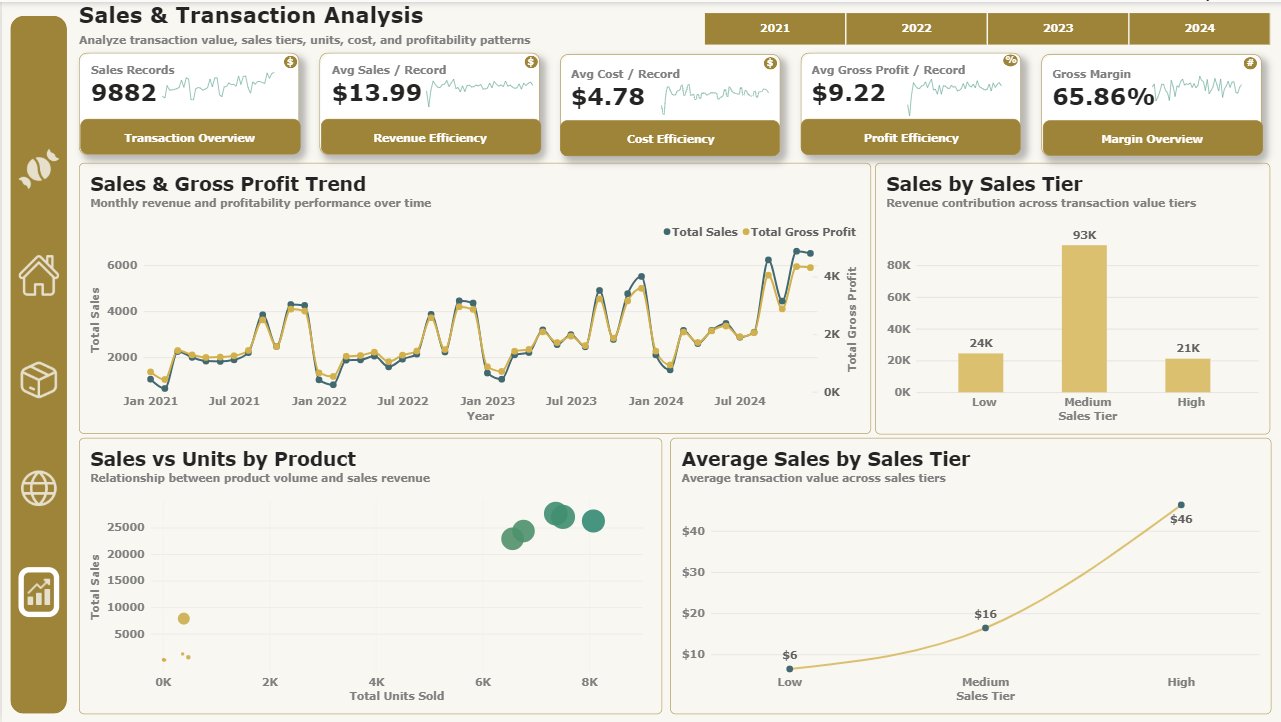

The dashboard page shown, as its layout file describes it:
{"tool":"powerbi","page":{"name":"Profitability & Insights","canvas":[1920,1080],"ordinal":3},"visuals":[{"type":"slicer","fields":{"Values":["06_Clean_Sales.Year"]},"box":[1032.3,13.8,887.5,51.2],"z":0,"group":"g2"},{"type":"group","id":"g1","title":"Group 1","box":[12.4,20.6,84.6,1048],"z":0},{"type":"shape","box":[115,76.9,330.3,152.8],"z":0,"group":"g8"},{"type":"shape","box":[476.2,76.9,330.3,152.8],"z":0,"group":"g11"},{"type":"shape","box":[1198.8,76.9,330.3,152.8],"z":0,"group":"g9"},{"type":"shape","box":[838,78.9,330.3,152.8],"z":0,"group":"g5"},{"type":"shape","box":[1560.4,79,330.3,152.8],"z":0,"group":"g6"},{"type":"textbox","box":[852.2,197.3,302.7,25.7],"z":0,"group":"g13"},{"type":"image","box":[24.2,521.8,60.9,89.7],"z":0,"group":"g12"},{"type":"group","id":"g2","title":"Group 13","box":[115,0,1803.1,72.5],"z":1000},{"type":"textbox","box":[115.2,0,659.6,47.4],"z":1000,"group":"g2"},{"type":"group","id":"g3","title":"Group 11","box":[1198.1,76.9,330.9,153.2],"z":1000,"group":"g4"},{"type":"cardVisual","fields":{"Data":["06_Clean_Sales.Avg Cost Per Recorde"]},"box":[837.5,93.7,293,77],"z":1000,"group":"g13"},{"type":"shape","box":[1198.8,176.3,329.2,53.8],"z":1000,"group":"g9"},{"type":"shape","box":[116,176.8,329.9,52.8],"z":1000,"group":"g8"},{"type":"shape","box":[477.2,176.8,329.9,52.8],"z":1000,"group":"g11"},{"type":"shape","box":[838,178.3,329.2,53.8],"z":1000,"group":"g5"},{"type":"shape","box":[1561.4,178.9,329.9,52.8],"z":1000,"group":"g6"},{"type":"image","box":[24.2,365.5,60.9,89.7],"z":1000,"group":"g12"},{"type":"textbox","box":[115,48,917.3,24.2],"z":2000,"group":"g2"},{"type":"group","id":"g4","title":"Group 5","box":[115,76.9,1776.2,155.3],"z":2000},{"type":"group","id":"g5","title":"Group 2","box":[838,78.9,330.3,153.2],"z":2000,"group":"g10"},{"type":"group","id":"g6","title":"Group 6","box":[1560,79,331.2,153.2],"z":2000,"group":"g4"},{"type":"group","id":"g7","title":"Group 10","box":[1143.4,82.9,20.8,19.2],"z":2000,"group":"g13"},{"type":"textbox","box":[129.3,195.3,302.7,25.7],"z":2000,"group":"g8"},{"type":"textbox","box":[490.5,195.3,302.7,25.7],"z":2000,"group":"g11"},{"type":"image","box":[24.2,201.7,60.9,97.2],"z":2000,"group":"g12"},{"type":"shape","box":[12.4,20.6,85.1,1047.1],"z":2500,"group":"g1"},{"type":"cardVisual","fields":{"Data":["06_Clean_Sales.Sales Records"]},"box":[116.2,86.1,245,81],"z":3000,"group":"g8"},{"type":"cardVisual","fields":{"Data":["06_Clean_Sales.Avg Sales Per Recorde"]},"box":[477.4,86.1,245,81],"z":3000,"group":"g11"},{"type":"lineChart","fields":{"Category":["06_Clean_Sales.Month Year.Variation.Date Hierarchy.Year","06_Clean_Sales.Month Year.Variation.Date Hierarchy.Month"],"Y":["06_Clean_Sales.Avg Cost Per Recorde"]},"box":[963.3,101.3,212.5,84.2],"z":3000,"group":"g13"},{"type":"textbox","box":[1574.4,197.2,302.7,25.7],"z":3000,"group":"g6"},{"type":"scatterChart","title":"Sales vs Units by Product","fields":{"X":["06_Clean_Sales.Total Units Sold"],"Y":["06_Clean_Sales.Total Sales"],"Category":["06_Clean_Sales.Product Name"],"Size":["06_Clean_Sales.Total Gross Profit"]},"box":[115.5,653.9,874.7,414.6],"z":3000},{"type":"image","box":[24.2,678.1,60.9,102.1],"z":3000,"group":"g12"},{"type":"group","id":"g8","title":"Group 4","box":[115,76.9,331.2,153.2],"z":4000,"group":"g4"},{"type":"group","id":"g9","title":"Group 2","box":[1198.8,76.9,330.3,153.2],"z":4000,"group":"g3"},{"type":"shape","box":[421.6,80.4,20.2,19],"z":4000,"group":"g8"},{"type":"shape","box":[782.8,80.4,20.2,19],"z":4000,"group":"g11"},{"type":"lineChart","fields":{"Category":["06_Clean_Sales.Month Year.Variation.Date Hierarchy.Year","06_Clean_Sales.Month Year.Variation.Date Hierarchy.Month"],"Y":["06_Clean_Sales.Gross Margin"]},"box":[1700.8,88.3,185.8,76.7],"z":4000},{"type":"image","box":[24.2,846.9,60.9,74.7],"z":4000,"group":"g12"},{"type":"textbox","box":[426.3,80.4,11.1,17.5],"z":5000,"group":"g8"},{"type":"textbox","box":[787.5,80.4,11.1,17.5],"z":5000,"group":"g11"},{"type":"cardVisual","fields":{"Data":["06_Clean_Sales.Gross Margin"]},"box":[1560,93.1,231.9,76.6],"z":5000,"group":"g6"},{"type":"lineChart","title":"Average Sales by Sales Tier","fields":{"Category":["06_Clean_Sales.Sales Tier"],"Y":["06_Clean_Sales.Avg Sales Per Recorde"]},"box":[1002.6,653.9,901.5,414.6],"z":5000},{"type":"stackedAreaChart","fields":{"Category":["06_Clean_Sales.Order Date.Variation.Date Hierarchy.Year","06_Clean_Sales.Order Date.Variation.Date Hierarchy.Month"],"Y":["06_Clean_Sales.Sales Records"]},"box":[210.4,77.8,227.7,91.5],"z":6000,"group":"g8"},{"type":"group","id":"g10","title":"Group 12","box":[837.5,78.9,338.3,153.2],"z":6000,"group":"g4"},{"type":"stackedAreaChart","fields":{"Category":["06_Clean_Sales.Month Year.Variation.Date Hierarchy.Year","06_Clean_Sales.Month Year.Variation.Date Hierarchy.Month"],"Y":["06_Clean_Sales.Avg Sales Per Recorde"]},"box":[607,87.4,219.4,91.1],"z":6000,"group":"g11"},{"type":"columnChart","title":"Sales by Sales Tier","fields":{"Y":["06_Clean_Sales.Total Sales"],"Category":["06_Clean_Sales.Sales Tier"]},"box":[1310.8,240.8,592.5,407.1],"z":6000},{"type":"group","id":"g11","title":"Group 4","box":[476.2,76.9,350.3,152.8],"z":7000,"group":"g4"},{"type":"lineChart","title":"Sales & Gross Profit Trend","fields":{"Category":["06_Clean_Sales.Month Year.Variation.Date Hierarchy.Year","06_Clean_Sales.Month Year.Variation.Date Hierarchy.Month"],"Y":["06_Clean_Sales.Total Sales"],"Y2":["06_Clean_Sales.Total Gross Profit"]},"box":[115.5,241.4,1188.2,406.4],"z":7000},{"type":"group","id":"g12","title":"Group 3","box":[24.2,201.7,60.9,719.9],"z":7009,"group":"g1"},{"type":"shape","box":[1502.2,80,22.4,18.6],"z":8000,"group":"g15"},{"type":"shape","box":[1862.6,83.7,20.2,19],"z":8000,"group":"g14"},{"type":"textbox","box":[1213,195.4,302.7,25.7],"z":8000,"group":"g3"},{"type":"textbox","box":[1499.3,80.9,28.5,17.5],"z":10000,"group":"g15"},{"type":"group","id":"g13","title":"Group 8","box":[837.5,82.9,338.3,140.2],"z":10000,"group":"g10"},{"type":"textbox","box":[1867.4,83.7,11.1,17.5],"z":10000,"group":"g14"},{"type":"cardVisual","fields":{"Data":["06_Clean_Sales.Avg Gross Profit per Recorde"]},"box":[1198.1,91.9,272.8,68.2],"z":10000,"group":"g3"},{"type":"lineChart","fields":{"Category":["06_Clean_Sales.Month Year.Variation.Date Hierarchy.Year","06_Clean_Sales.Month Year.Variation.Date Hierarchy.Month"],"Y":["06_Clean_Sales.Avg Gross Profit per Recorde"]},"box":[1331.8,92.5,192.5,95],"z":13000,"group":"g3"},{"type":"group","id":"g14","title":"Group 9","box":[1862.6,83.7,20,19.2],"z":14000,"group":"g6"},{"type":"shape","box":[1143.4,82.9,20.2,19],"z":16000,"group":"g7"},{"type":"group","id":"g15","title":"Group 7","box":[1499.3,80,28.5,19.2],"z":17000,"group":"g3"},{"type":"textbox","box":[1148.2,82.9,11.1,17.5],"z":17000,"group":"g7"}]}

Visuals, with their boxes on the page's 1920x1080 design canvas (x1, y1, x2, y2). These are canvas units, not pixel positions in the 1281x722 screenshot, which may show the page scaled, cropped or inside an application window:
slicer - 06_Clean_Sales.Year: l=1032, t=14, r=1920, b=65
"Group 1" group: l=12, t=21, r=97, b=1069
shape: l=115, t=77, r=445, b=230
shape: l=476, t=77, r=806, b=230
shape: l=1199, t=77, r=1529, b=230
shape: l=838, t=79, r=1168, b=232
shape: l=1560, t=79, r=1891, b=232
textbox: l=852, t=197, r=1155, b=223
image: l=24, t=522, r=85, b=612
"Group 13" group: l=115, t=0, r=1918, b=72
textbox: l=115, t=0, r=775, b=47
"Group 11" group: l=1198, t=77, r=1529, b=230
cardVisual - 06_Clean_Sales.Avg Cost Per Recorde: l=838, t=94, r=1130, b=171
shape: l=1199, t=176, r=1528, b=230
shape: l=116, t=177, r=446, b=230
shape: l=477, t=177, r=807, b=230
shape: l=838, t=178, r=1167, b=232
shape: l=1561, t=179, r=1891, b=232
image: l=24, t=366, r=85, b=455
textbox: l=115, t=48, r=1032, b=72
"Group 5" group: l=115, t=77, r=1891, b=232
"Group 2" group: l=838, t=79, r=1168, b=232
"Group 6" group: l=1560, t=79, r=1891, b=232
"Group 10" group: l=1143, t=83, r=1164, b=102
textbox: l=129, t=195, r=432, b=221
textbox: l=490, t=195, r=793, b=221
image: l=24, t=202, r=85, b=299
shape: l=12, t=21, r=98, b=1068
cardVisual - 06_Clean_Sales.Sales Records: l=116, t=86, r=361, b=167
cardVisual - 06_Clean_Sales.Avg Sales Per Recorde: l=477, t=86, r=722, b=167
lineChart - 06_Clean_Sales.Month Year.Variation.Date Hierarchy.Year x 06_Clean_Sales.Month Year.Variation.Date Hierarchy.Month: l=963, t=101, r=1176, b=186
textbox: l=1574, t=197, r=1877, b=223
"Sales vs Units by Product" scatterChart: l=116, t=654, r=990, b=1068
image: l=24, t=678, r=85, b=780
"Group 4" group: l=115, t=77, r=446, b=230
"Group 2" group: l=1199, t=77, r=1529, b=230
shape: l=422, t=80, r=442, b=99
shape: l=783, t=80, r=803, b=99
lineChart - 06_Clean_Sales.Month Year.Variation.Date Hierarchy.Year x 06_Clean_Sales.Month Year.Variation.Date Hierarchy.Month: l=1701, t=88, r=1887, b=165
image: l=24, t=847, r=85, b=922
textbox: l=426, t=80, r=437, b=98
textbox: l=788, t=80, r=799, b=98
cardVisual - 06_Clean_Sales.Gross Margin: l=1560, t=93, r=1792, b=170
"Average Sales by Sales Tier" lineChart: l=1003, t=654, r=1904, b=1068
stackedAreaChart - 06_Clean_Sales.Order Date.Variation.Date Hierarchy.Year x 06_Clean_Sales.Order Date.Variation.Date Hierarchy.Month: l=210, t=78, r=438, b=169
"Group 12" group: l=838, t=79, r=1176, b=232
stackedAreaChart - 06_Clean_Sales.Month Year.Variation.Date Hierarchy.Year x 06_Clean_Sales.Month Year.Variation.Date Hierarchy.Month: l=607, t=87, r=826, b=178
"Sales by Sales Tier" columnChart: l=1311, t=241, r=1903, b=648
"Group 4" group: l=476, t=77, r=826, b=230
"Sales & Gross Profit Trend" lineChart: l=116, t=241, r=1304, b=648
"Group 3" group: l=24, t=202, r=85, b=922
shape: l=1502, t=80, r=1525, b=99
shape: l=1863, t=84, r=1883, b=103
textbox: l=1213, t=195, r=1516, b=221
textbox: l=1499, t=81, r=1528, b=98
"Group 8" group: l=838, t=83, r=1176, b=223
textbox: l=1867, t=84, r=1878, b=101
cardVisual - 06_Clean_Sales.Avg Gross Profit per Recorde: l=1198, t=92, r=1471, b=160
lineChart - 06_Clean_Sales.Month Year.Variation.Date Hierarchy.Year x 06_Clean_Sales.Month Year.Variation.Date Hierarchy.Month: l=1332, t=92, r=1524, b=188
"Group 9" group: l=1863, t=84, r=1883, b=103
shape: l=1143, t=83, r=1164, b=102
"Group 7" group: l=1499, t=80, r=1528, b=99
textbox: l=1148, t=83, r=1159, b=100
